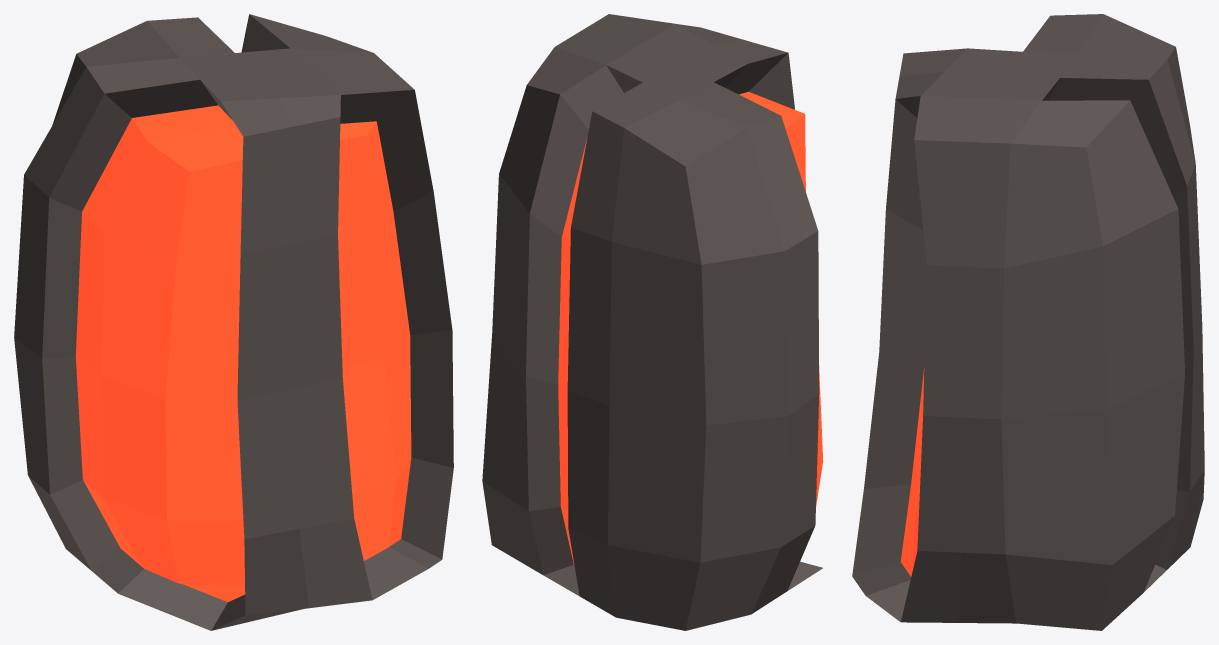
Rendered from Rock Lava 2.fbx.
3 views of the same model, side by side, from view 1: azimuth 30°, elevation 25°; view 2: azimuth 150°, elevation 25°; view 3: azimuth 270°, elevation 25° (orthographic).
Visible parts, largest first — view 1: Rock Lava 2; view 2: Rock Lava 2; view 3: Rock Lava 2.
Boxes of the visible parts, bbox=[...] form: Rock Lava 2: bbox=[14, 14, 453, 630]; Rock Lava 2: bbox=[482, 14, 823, 630]; Rock Lava 2: bbox=[852, 14, 1204, 630].
Size of the model in its own units: 105 by 154 by 93.79.
